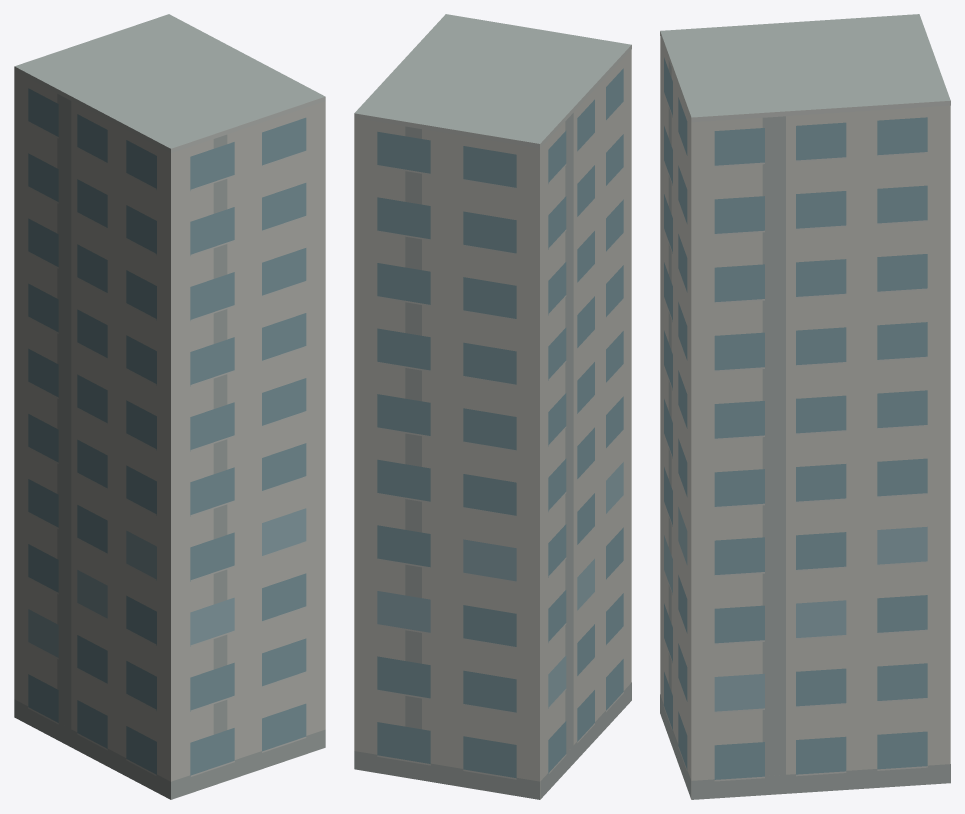
File: residential-7a14e089-4660-4967-bfbf-886de17fa825.glb
3 views of the same model, side by side, from view 1: azimuth 30°, elevation 25°; view 2: azimuth 150°, elevation 25°; view 3: azimuth 270°, elevation 25° (orthographic). The views are drawn at different scales.
Parts seen in each view (by area): view 1: residential-7a14e089-4660-4967-bfbf-886de17fa825.tmp; view 2: residential-7a14e089-4660-4967-bfbf-886de17fa825.tmp; view 3: residential-7a14e089-4660-4967-bfbf-886de17fa825.tmp.
Part boxes in pixels (<box>): residential-7a14e089-4660-4967-bfbf-886de17fa825.tmp: <box>14,14,325,799</box>; residential-7a14e089-4660-4967-bfbf-886de17fa825.tmp: <box>354,14,631,799</box>; residential-7a14e089-4660-4967-bfbf-886de17fa825.tmp: <box>660,14,950,799</box>.
Bounding box in the file's own units: 11.07 × 34 × 13.14.
